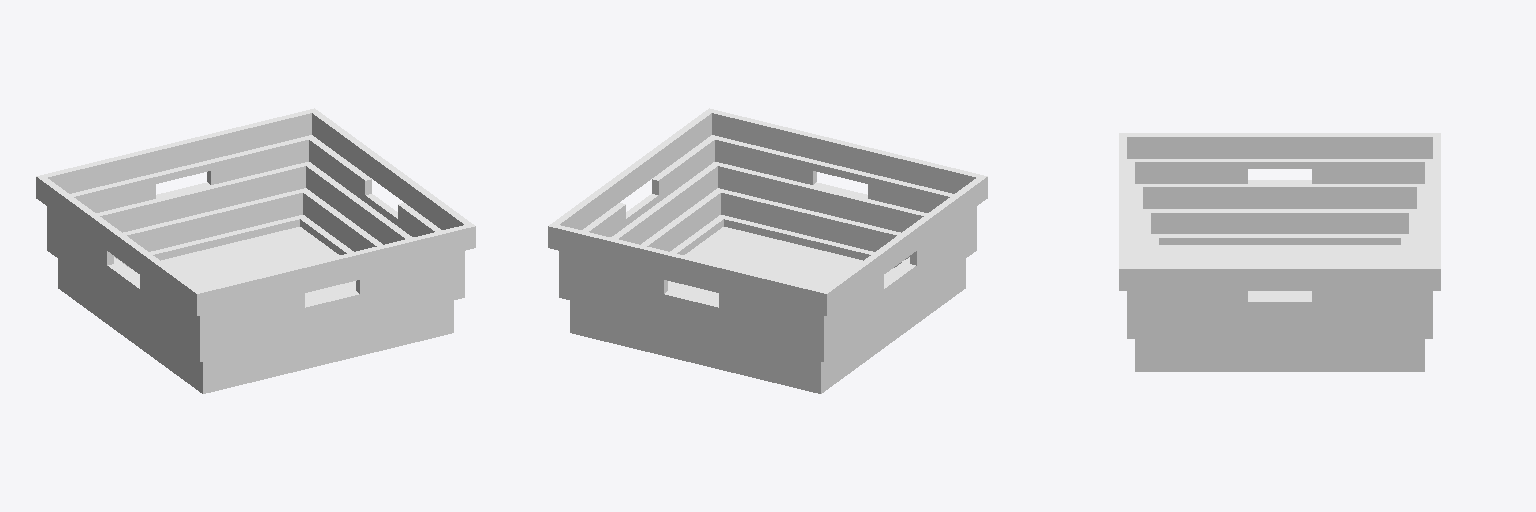
Rendered from PanierBois.obj.
3 views of the same model, side by side, from view 1: azimuth 30°, elevation 25°; view 2: azimuth 150°, elevation 25°; view 3: azimuth 270°, elevation 25° (orthographic).
Parts seen in each view (by area): view 1: PanierBois; view 2: PanierBois; view 3: PanierBois.
Boxes of the visible parts, x1=… form: PanierBois: x1=36, y1=108, x2=475, y2=393; PanierBois: x1=548, y1=108, x2=987, y2=393; PanierBois: x1=1119, y1=133, x2=1440, y2=371.
Size of the model in its own units: 40 by 15 by 40.